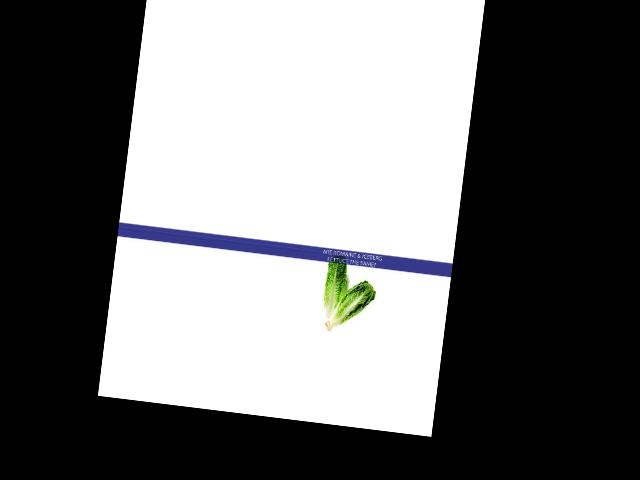lettuce: (323, 273, 375, 342)
